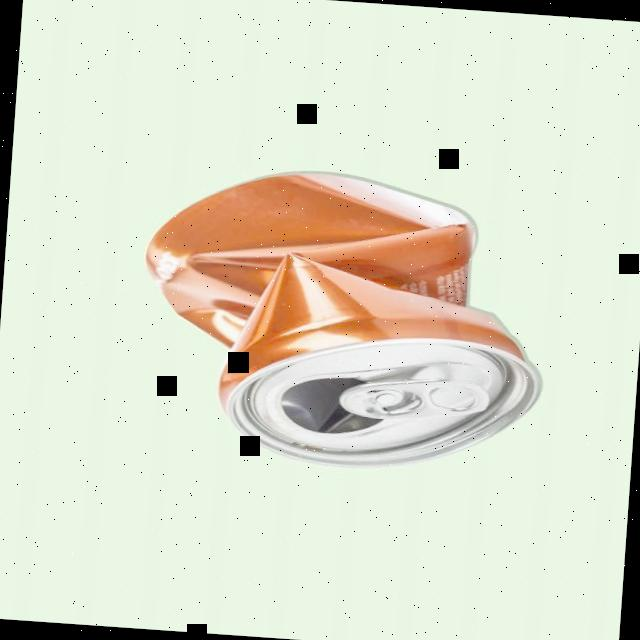can: (129, 159, 555, 480)
